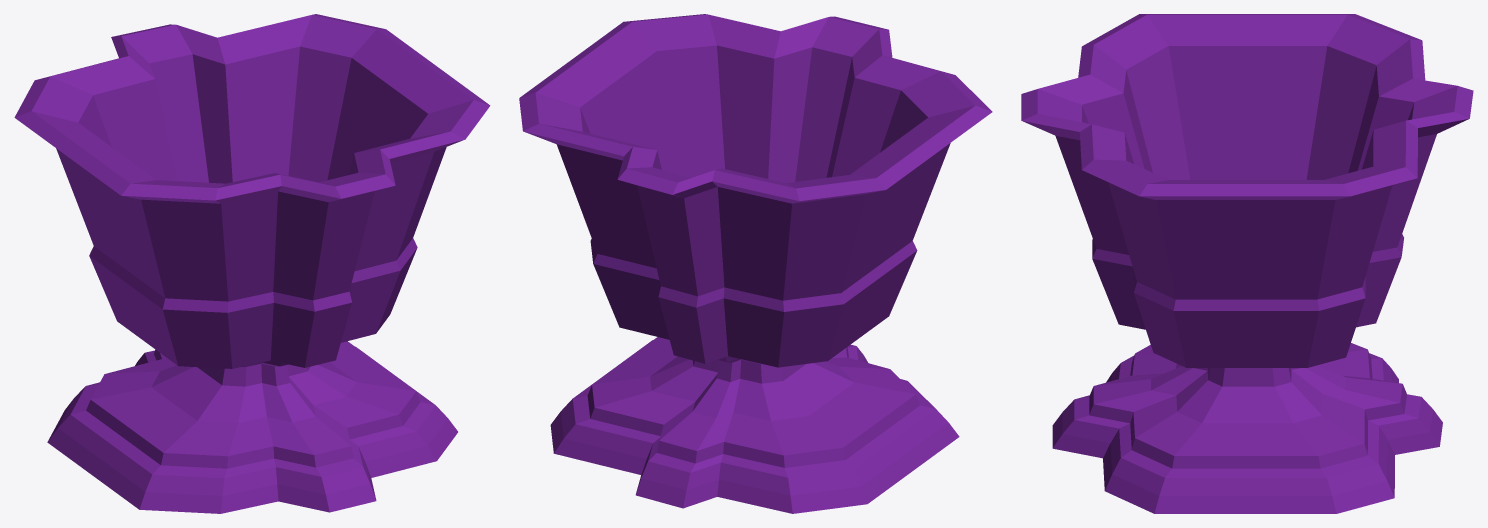
Rendered from urn2.obj.
3 renders of one model, left to right at view 1: azimuth 30°, elevation 25°; view 2: azimuth 150°, elevation 25°; view 3: azimuth 270°, elevation 25°, orthographic.
Size of the model in its own units: 2.33 by 2 by 2.44.
